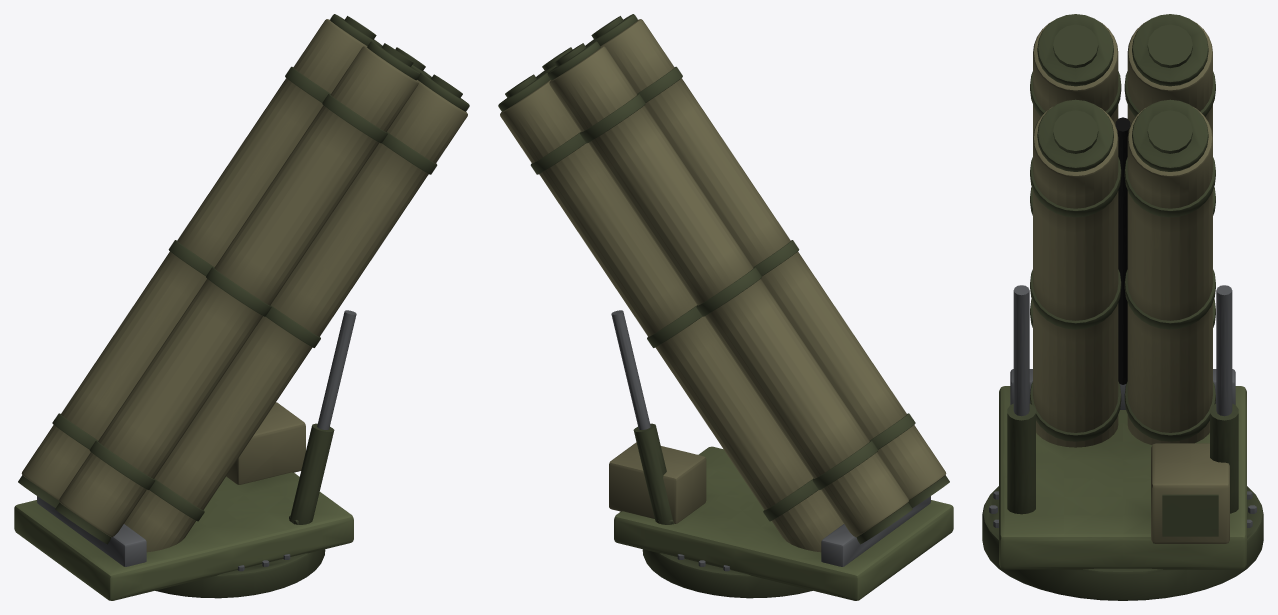
File: launcher_turret.glb
3 views of the same model, side by side, from view 1: azimuth 30°, elevation 25°; view 2: azimuth 150°, elevation 25°; view 3: azimuth 270°, elevation 25° (orthographic). The views are drawn at different scales.
Parts seen in each view (by area): view 1: Cube; view 2: Cube; view 3: Cube.
Part boxes in pixels (x1,y1,x2,y2): Cube: [14, 14, 469, 600]; Cube: [498, 14, 953, 600]; Cube: [982, 14, 1263, 600].
Bounding box in the file's own units: 5.27 × 6.05 × 2.5.
